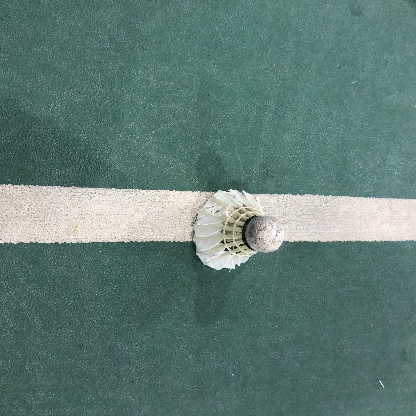ball_single: (193, 189, 284, 270)
